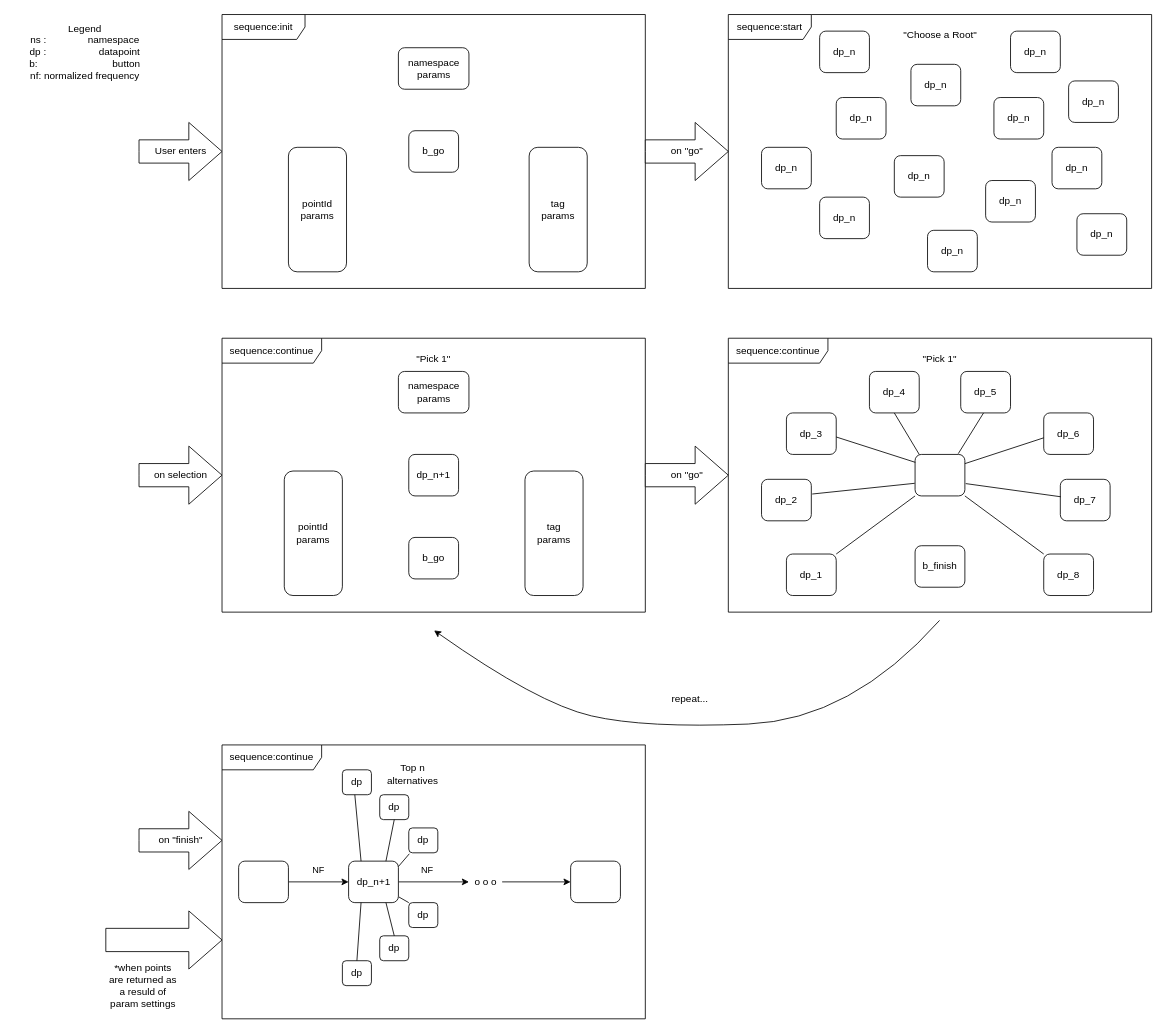
The diagram is 1166 pixels wide and 1033 high, and some of its shapes have lost their labels. Each missing label, with the centre of its shape:
"dp_0" belongs at (939,475).
"dp_n+n" belongs at (595,881).
"dp_root" belongs at (263,881).
"on empty response*" belongs at (163,939).
